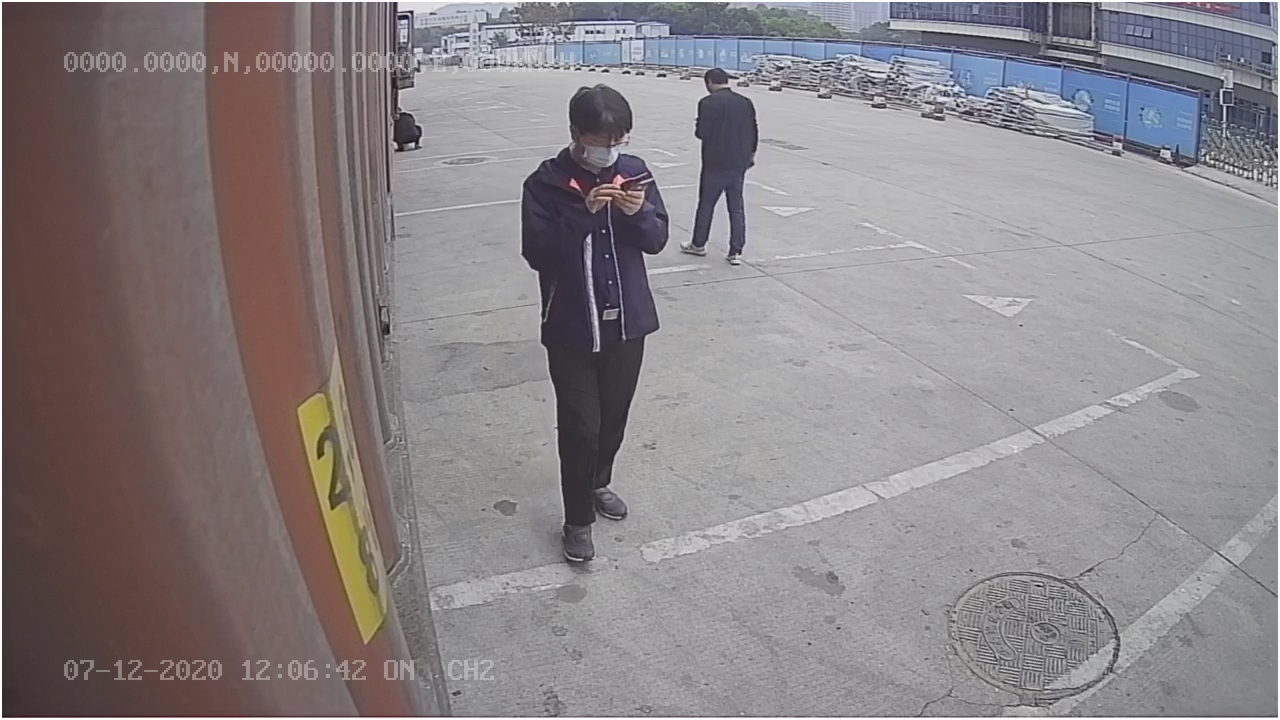person: (510, 74, 668, 567), (678, 62, 762, 268)
